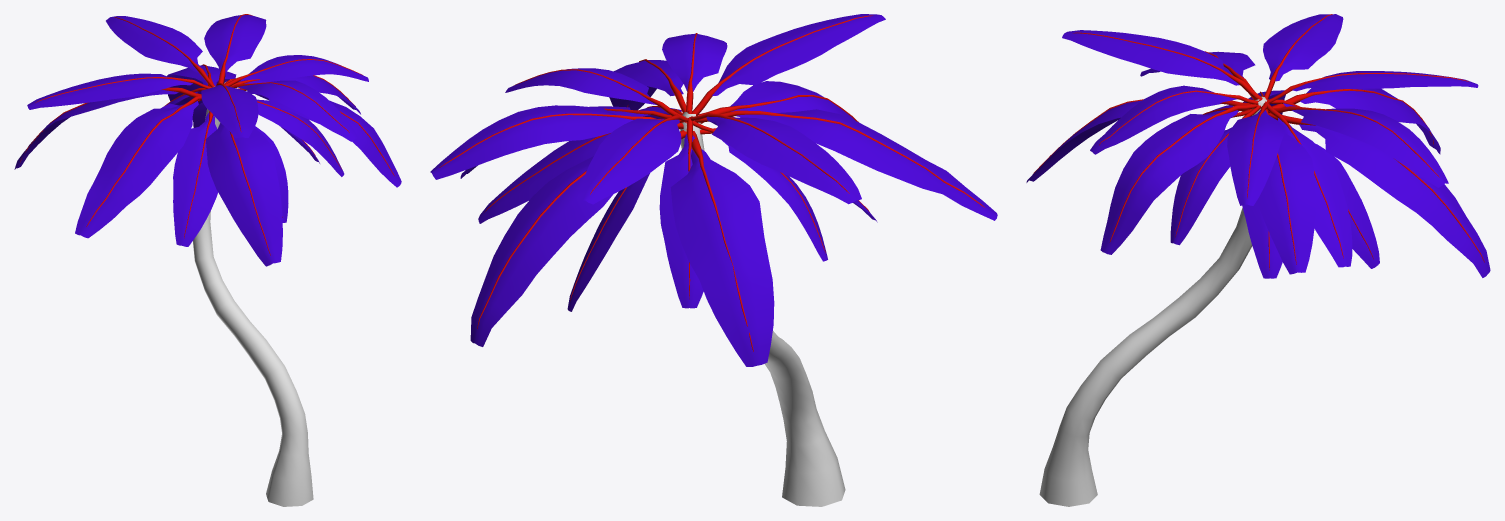
Rendered from Palmtree.fbx.
3 renders of one model, left to right at view 1: azimuth 30°, elevation 25°; view 2: azimuth 150°, elevation 25°; view 3: azimuth 270°, elevation 25°, orthographic. The views are drawn at different scales.
Visible parts, largest first — view 1: Krone, StammLP; view 2: Krone, StammLP; view 3: Krone, StammLP.
Boxes of the visible parts, x1,y1,x2,y2 form: Krone: (14,14,401,266); StammLP: (193,86,313,506); Krone: (430,14,997,366); StammLP: (680,112,845,506); Krone: (1026,14,1490,278); StammLP: (1039,96,1266,506).
Size of the model in its own units: 527 by 552 by 530.
